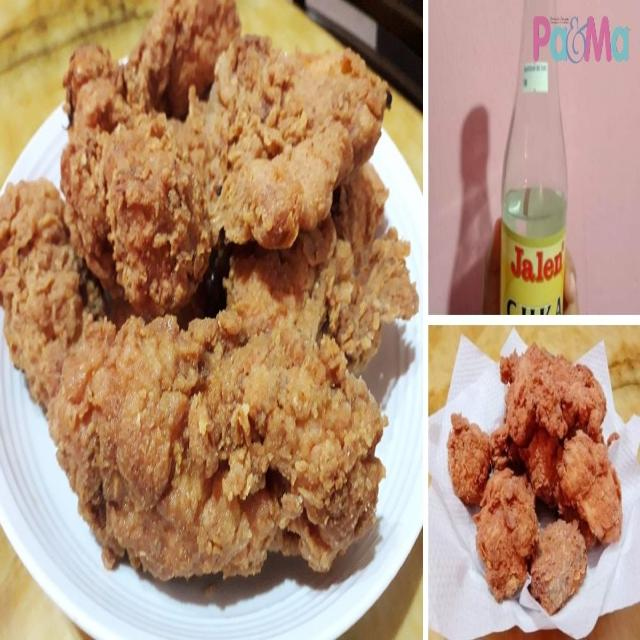Frango: (91, 328, 371, 546), (202, 59, 357, 217), (239, 188, 394, 342), (95, 137, 215, 286), (8, 195, 90, 403), (140, 0, 229, 136), (482, 473, 531, 590), (518, 365, 593, 438), (564, 452, 613, 519), (537, 522, 581, 596), (453, 424, 494, 497)
